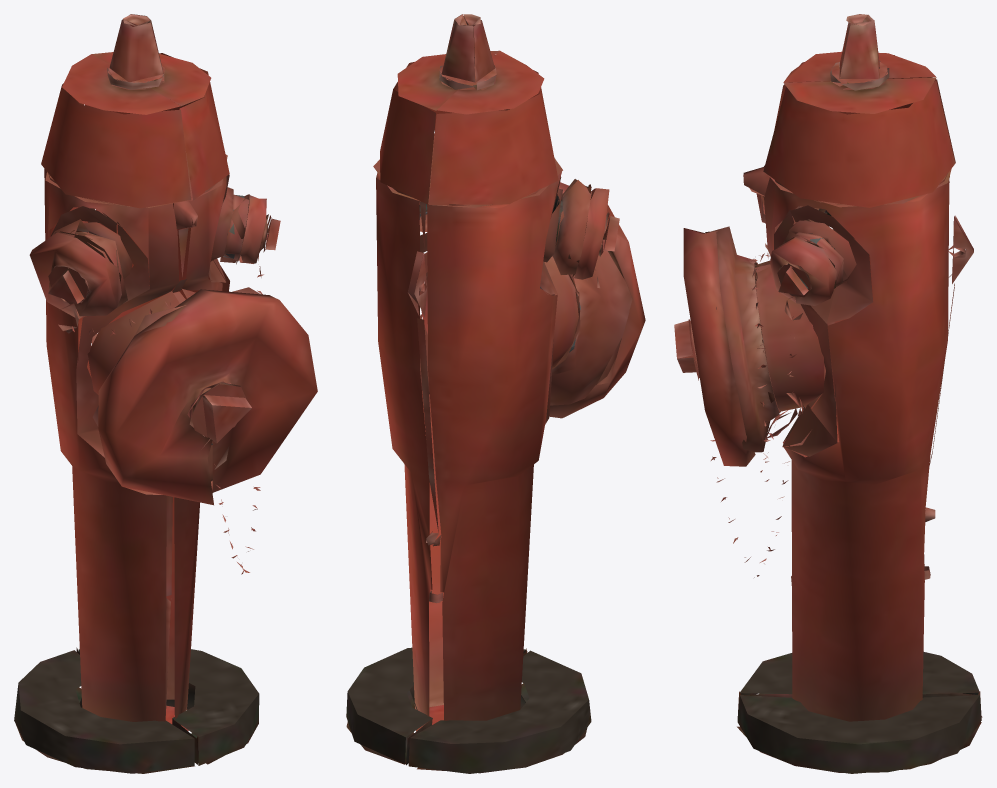
Rendered from hydrant.glb.
3 renders of one model, left to right at view 1: azimuth 30°, elevation 25°; view 2: azimuth 150°, elevation 25°; view 3: azimuth 270°, elevation 25°, orthographic.
Visible parts, largest first — view 1: fire_hydrant; view 2: fire_hydrant; view 3: fire_hydrant.
Boxes of the visible parts, bbox=[...] form: fire_hydrant: bbox=[14, 14, 317, 773]; fire_hydrant: bbox=[346, 14, 645, 773]; fire_hydrant: bbox=[674, 14, 982, 773].
Bounding box in the file's own units: 0.2777 × 0.8004 × 0.3184.
Materials: 1 (1 with a texture image).
